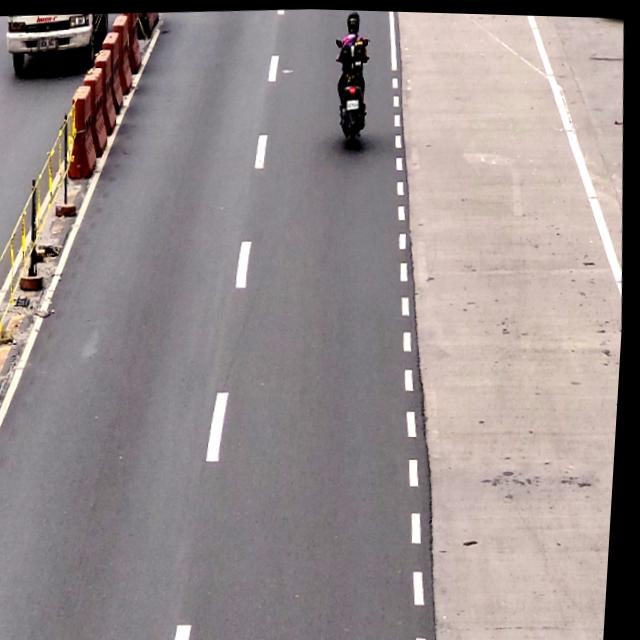Motorcycle: (332, 8, 374, 151)
